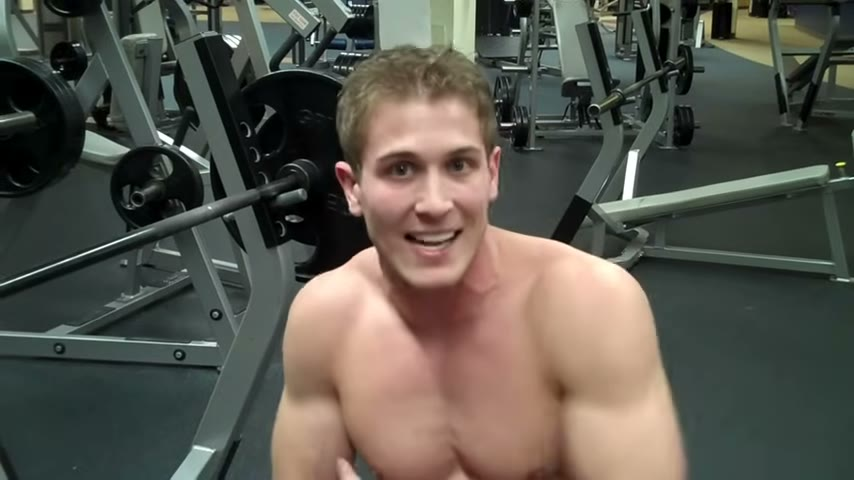barbell_plate_side: (1, 30, 110, 479)
